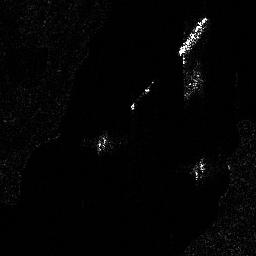ship: (178, 15, 206, 58), (130, 78, 157, 112)
